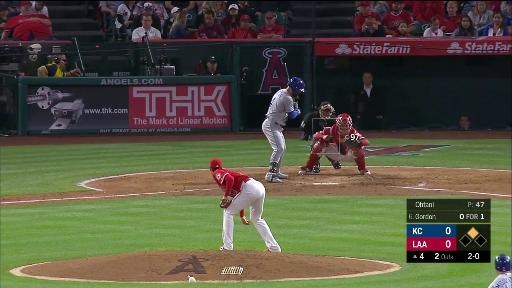pitcher: (208, 158, 283, 253)
